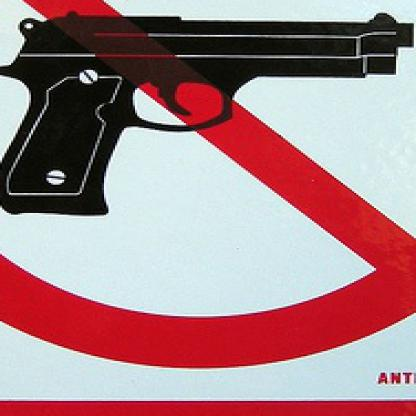gun: (0, 10, 414, 215)
